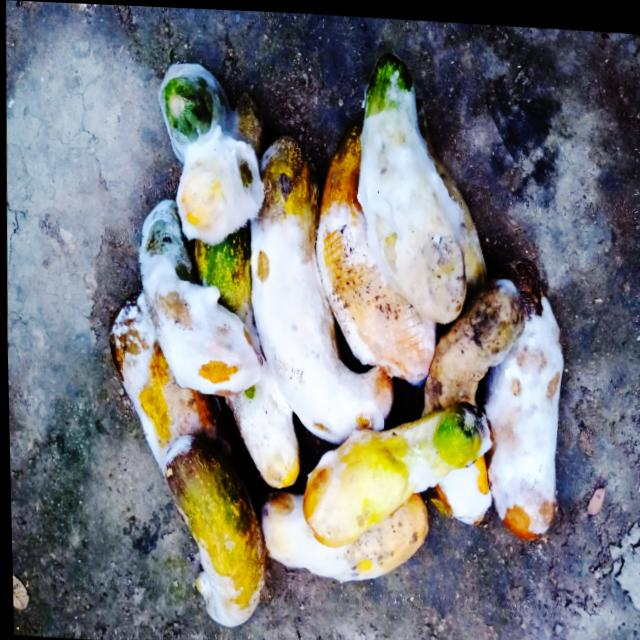Pythium-Fruit-Rot: (98, 50, 569, 640)
